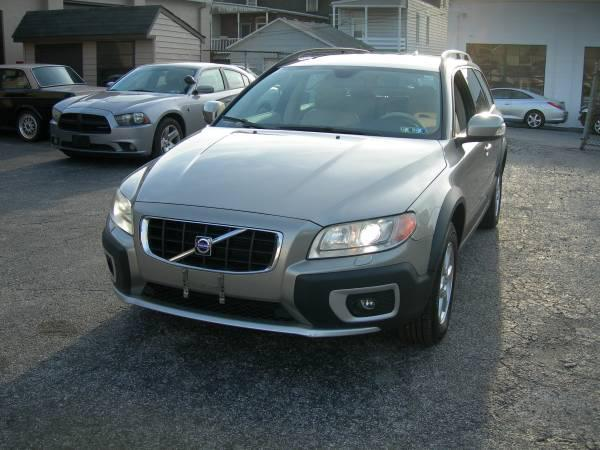Front_Bumper: (101, 217, 441, 334)
Front_Fender: (408, 136, 469, 240)
Front_Left_Door: (454, 110, 501, 242)
Front_Left_Window: (451, 64, 492, 141)
Front_Windshield: (212, 62, 439, 134)
Grille: (140, 212, 286, 270)
Hood: (121, 124, 448, 231)
Left_Headlight: (306, 212, 417, 261)
Right_Headlight: (110, 191, 141, 236)
Roof: (276, 45, 480, 135)
Wheel: (393, 226, 456, 350)
